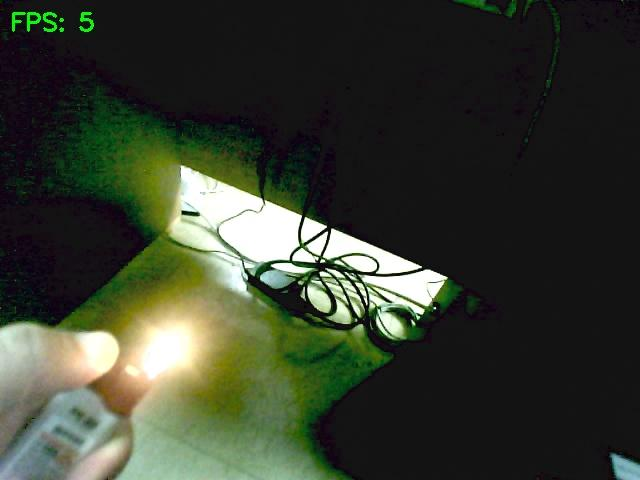fire: (141, 331, 187, 378)
smoke: (142, 328, 191, 375)
